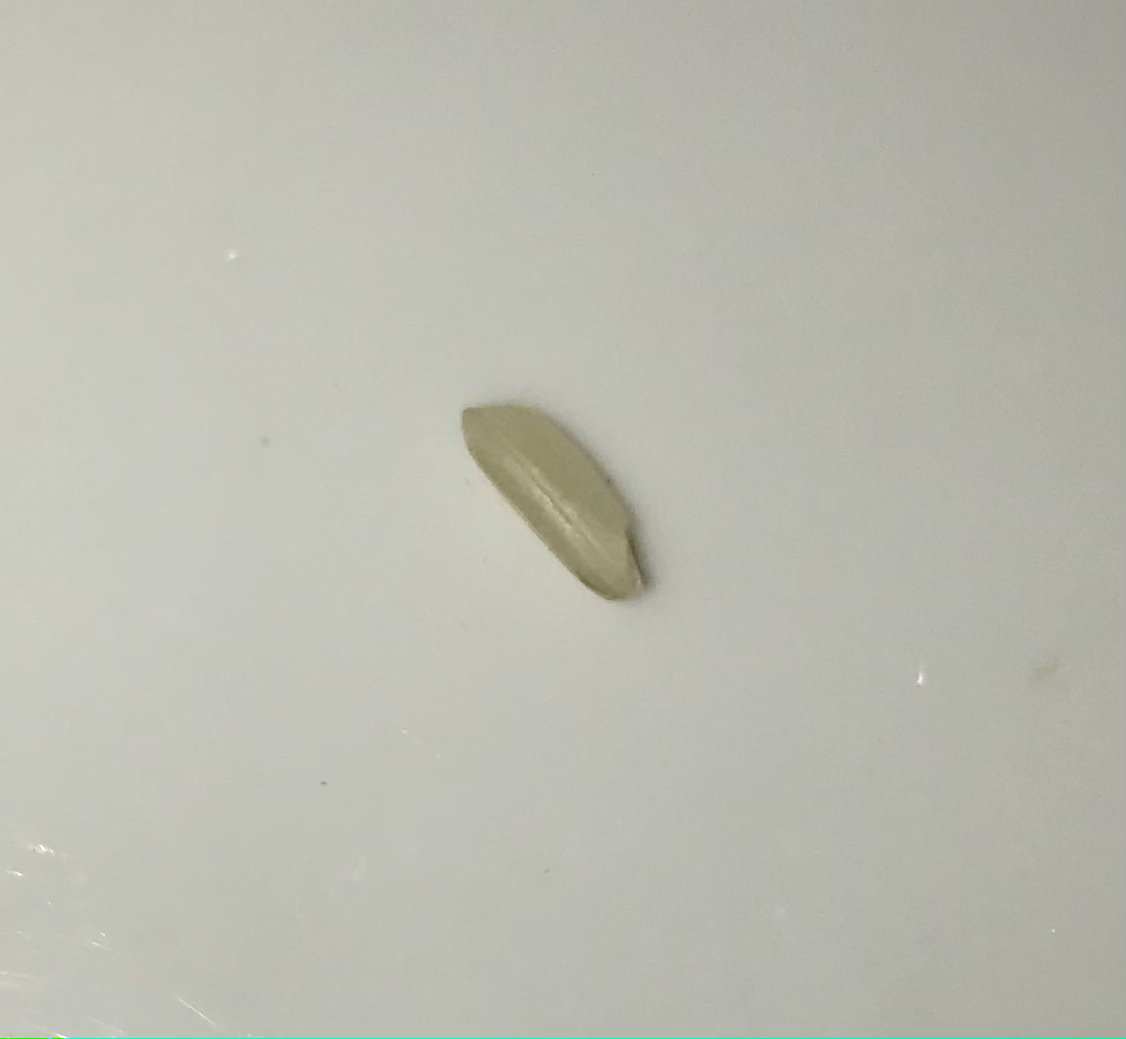Gao Lut Trang: (453, 386, 663, 619)
